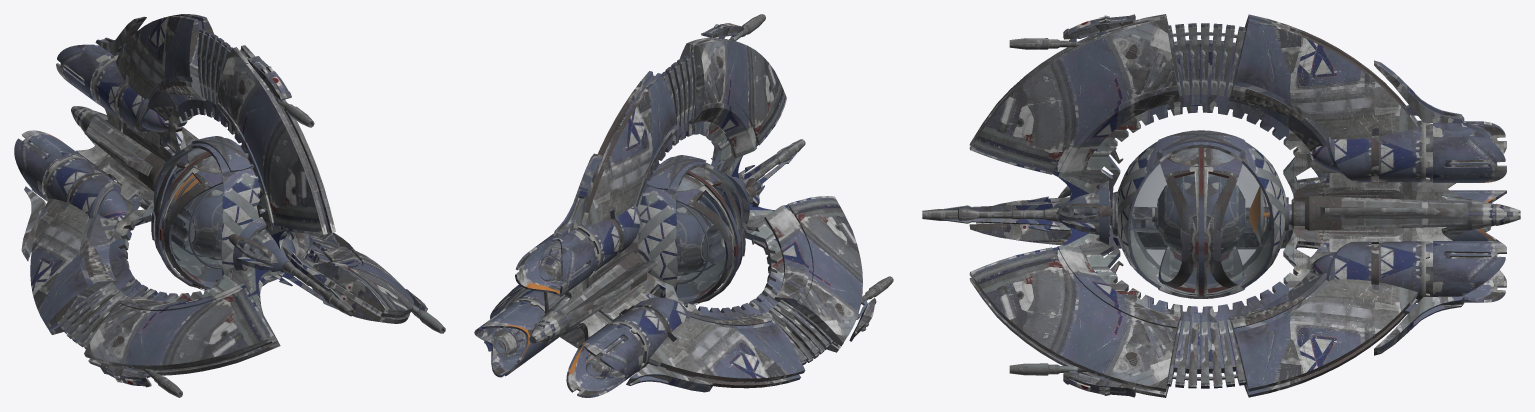
Rendered from trifighter.glb.
3 renders of one model, left to right at view 1: azimuth 30°, elevation 25°; view 2: azimuth 150°, elevation 25°; view 3: azimuth 270°, elevation 25°, orthographic. The views are drawn at different scales.
Bounding box in the file's own units: 3.44 × 2.98 × 5.33.
Materials: 3 (2 with a texture image).
